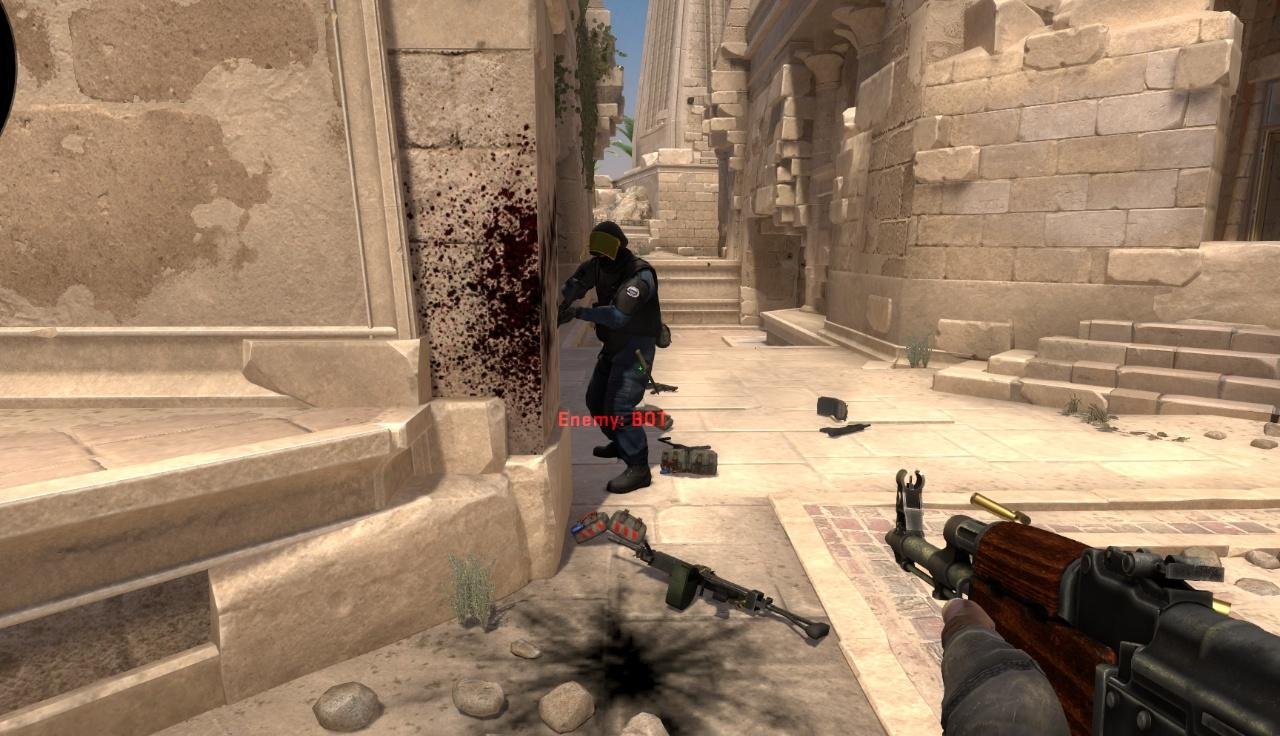ct: (556, 222, 663, 495)
cthead: (588, 221, 629, 265)
rifle: (882, 475, 1280, 736)
